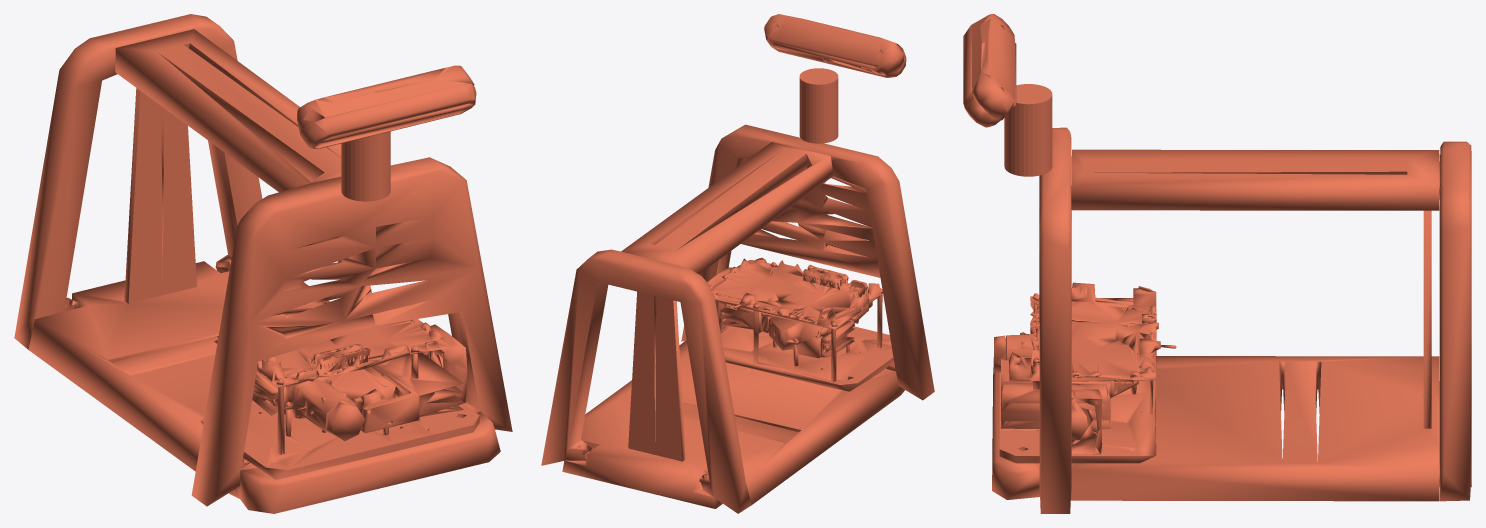
File: arml tulip.fbx
The picture shows the model from 3 angles, left to right: view 1: azimuth 30°, elevation 25°; view 2: azimuth 150°, elevation 25°; view 3: azimuth 270°, elevation 25°; orthographic projection. The views are drawn at different scales.
Visible parts, largest first — view 1: ARML_3a; view 2: ARML_3a; view 3: ARML_3a.
Boxes of the visible parts, <box> form: ARML_3a: <box>14,14,512,513</box>; ARML_3a: <box>541,14,934,513</box>; ARML_3a: <box>963,14,1471,513</box>.
Size of the model in its own units: 0.2145 by 0.2719 by 0.3176.
